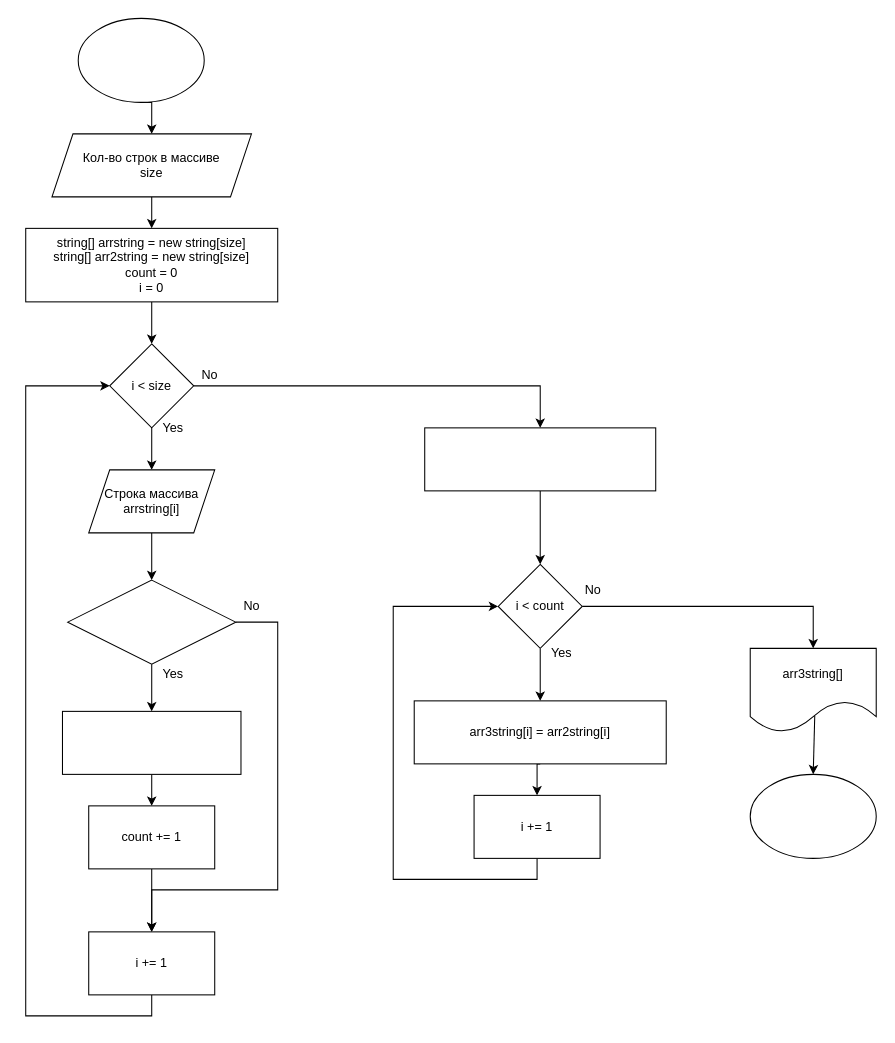
Image size: 895x1043. Some labels were removed from this diagram. The box of each missing label's shape, as (x1, y1, x2, y2) in pixels:
arr2string[count] = arrstring[i]: (61, 710, 241, 774)
string[] arr3string = new string[count] i = 0: (424, 427, 656, 491)
Длина строки arrstring[i] <= 3: (67, 579, 236, 664)
Конец: (749, 773, 876, 858)
Начало: (77, 17, 204, 102)
